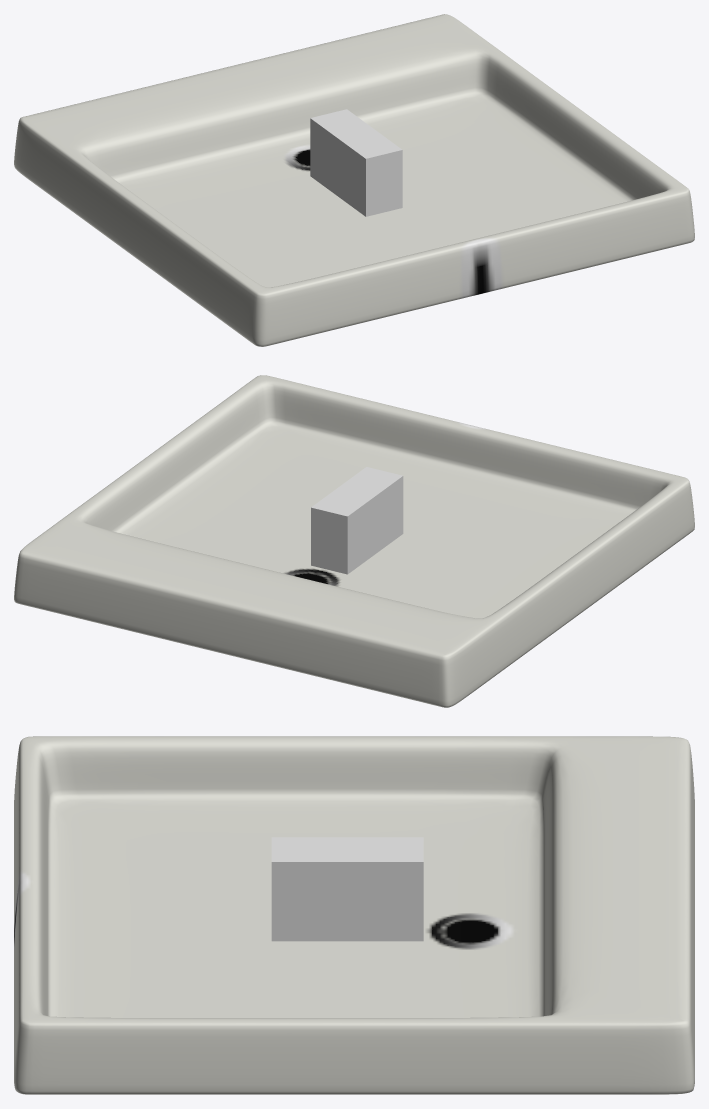
File: k-2314AutodeskCollada.DAE
3 renders of one model, top to bottom at view 1: azimuth 30°, elevation 25°; view 2: azimuth 150°, elevation 25°; view 3: azimuth 270°, elevation 25°, orthographic. The views are drawn at different scales.
Parts seen in each view (by area): view 1: Box02, faucet; view 2: Box02, faucet; view 3: Box02, faucet.
Part boxes in pixels (<box>): Box02: <box>14,14,694,346</box>; faucet: <box>310,109,402,216</box>; Box02: <box>14,375,694,707</box>; faucet: <box>311,467,403,574</box>; Box02: <box>14,736,694,1094</box>; faucet: <box>271,837,423,941</box>.
Size of the model in its own units: 23.99 by 5.18 by 23.49.
